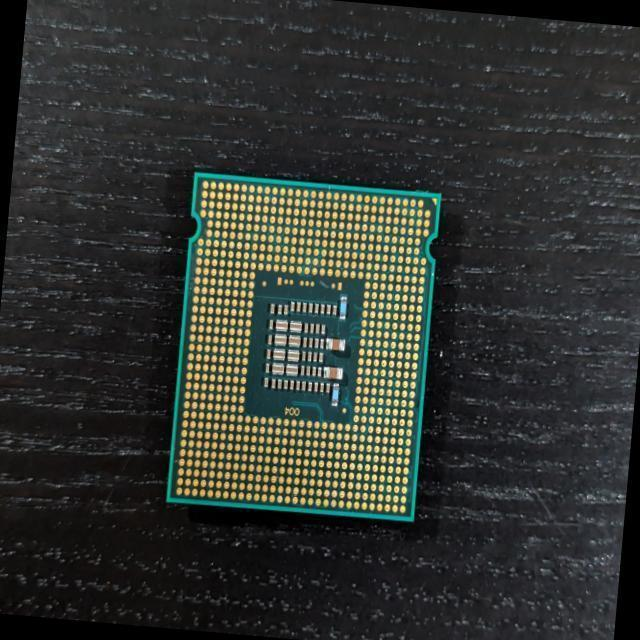CPU: (165, 172, 442, 524)
